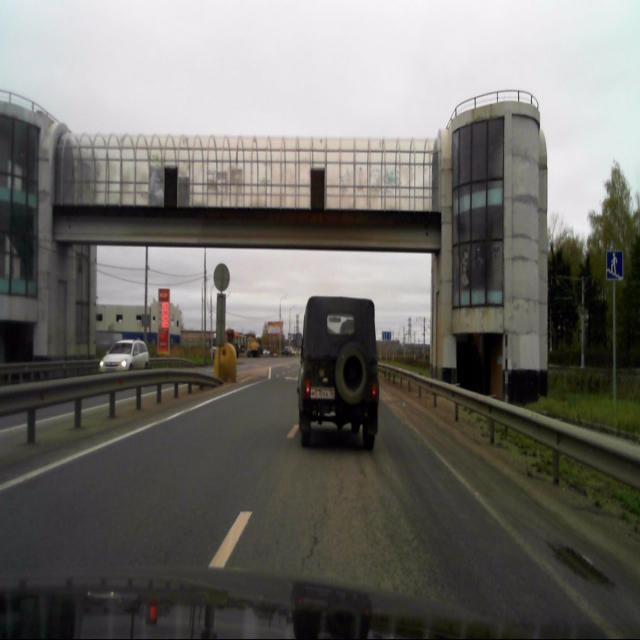road sign: (606, 252, 622, 281)
